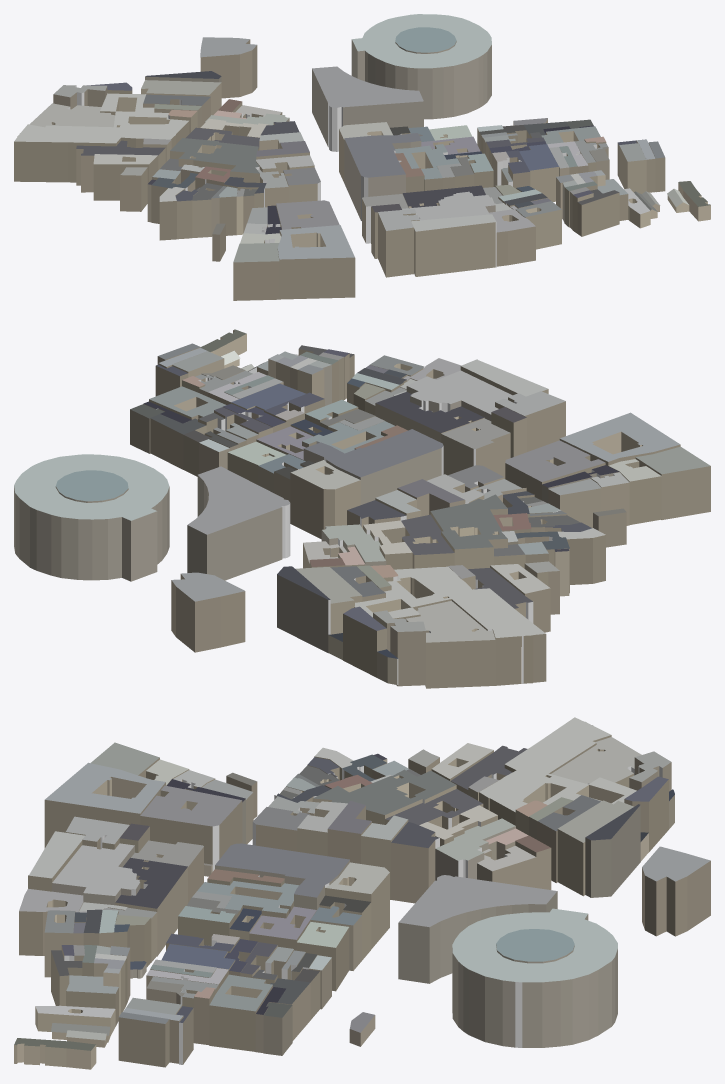
3 views of the same model, one above another, from view 1: azimuth 30°, elevation 25°; view 2: azimuth 150°, elevation 25°; view 3: azimuth 270°, elevation 25° (orthographic). The views are drawn at different scales.
Visible parts, largest first — view 1: tuile; view 2: tuile; view 3: tuile.
Boxes of the visible parts, box(x1,y1,x2,y2) form: tuile: box(14, 14, 710, 300); tuile: box(14, 329, 710, 688); tuile: box(14, 717, 710, 1069).
Size of the model in its own units: 290 by 32.09 by 278.
